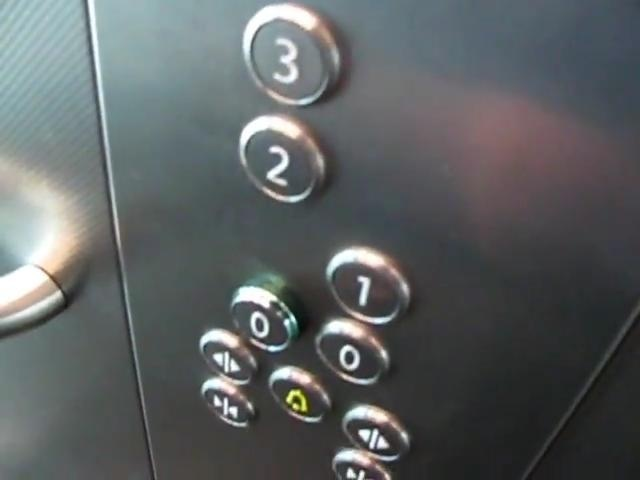0: (227, 281, 303, 357), (313, 318, 396, 387)
1: (322, 245, 413, 329)
2: (235, 114, 330, 208)
3: (238, 1, 345, 110)
alarm: (265, 365, 338, 429)
close: (199, 374, 259, 434)
open: (339, 401, 412, 465), (196, 324, 261, 386)
